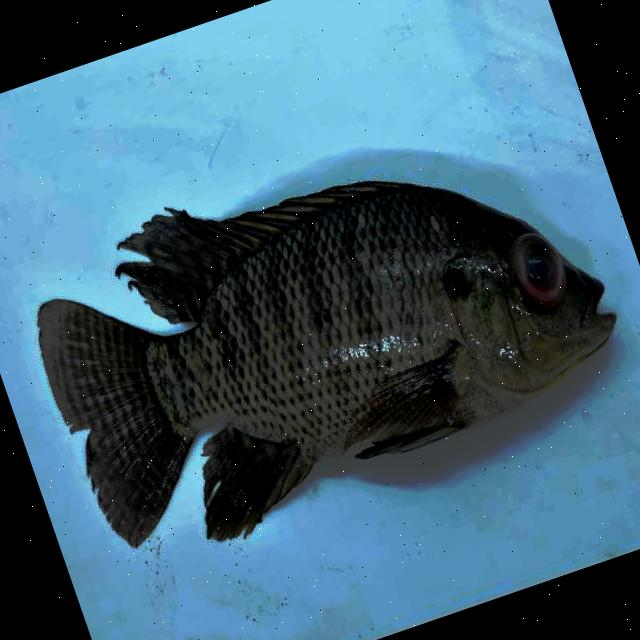Streptococcus: (37, 180, 613, 545)
